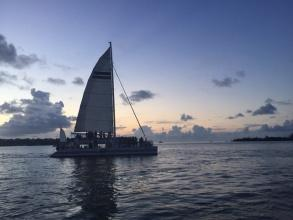fanchuan: (48, 42, 161, 161)
